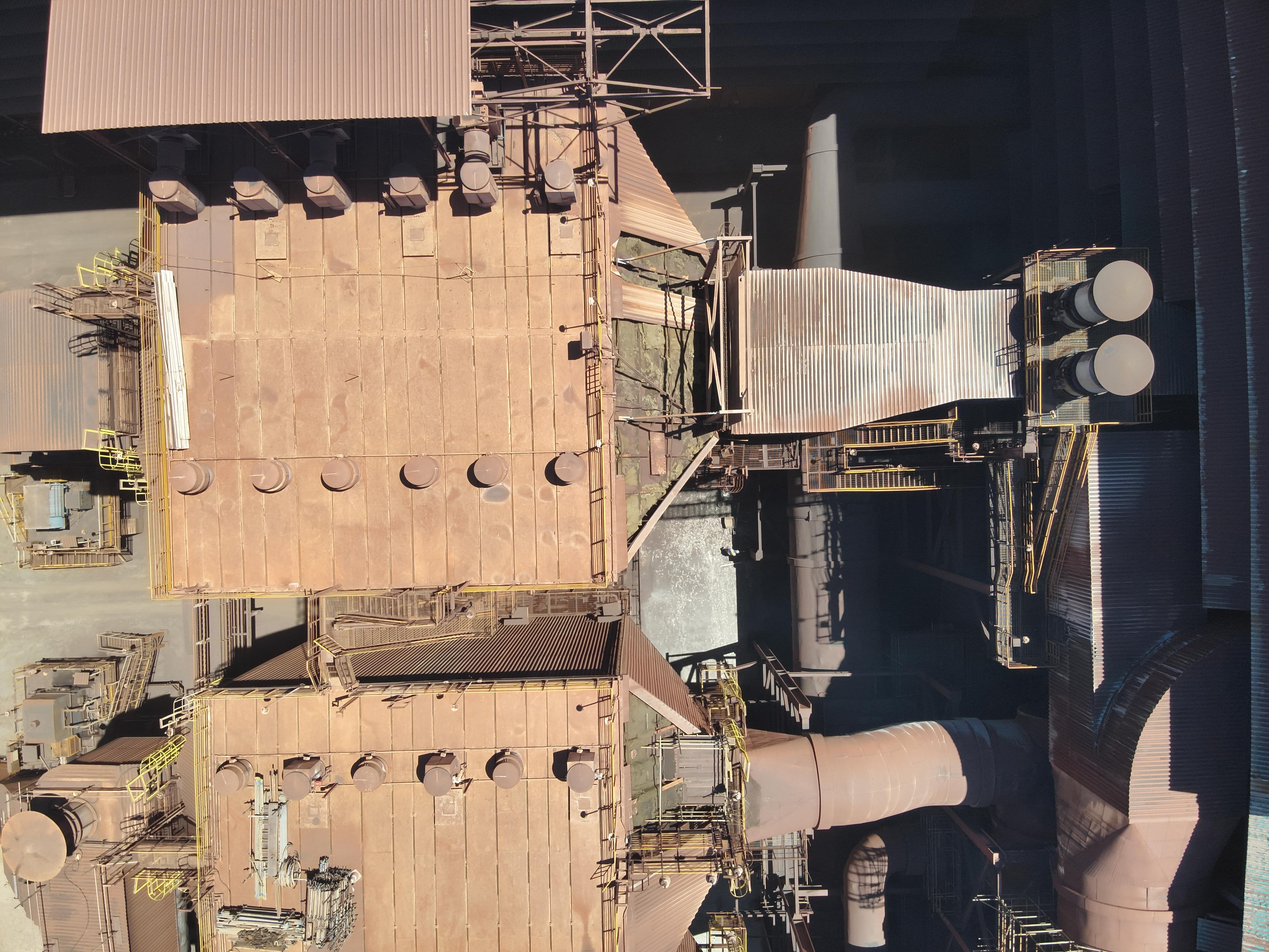Failures: (602, 314, 718, 561), (617, 671, 697, 875), (608, 215, 719, 310)
